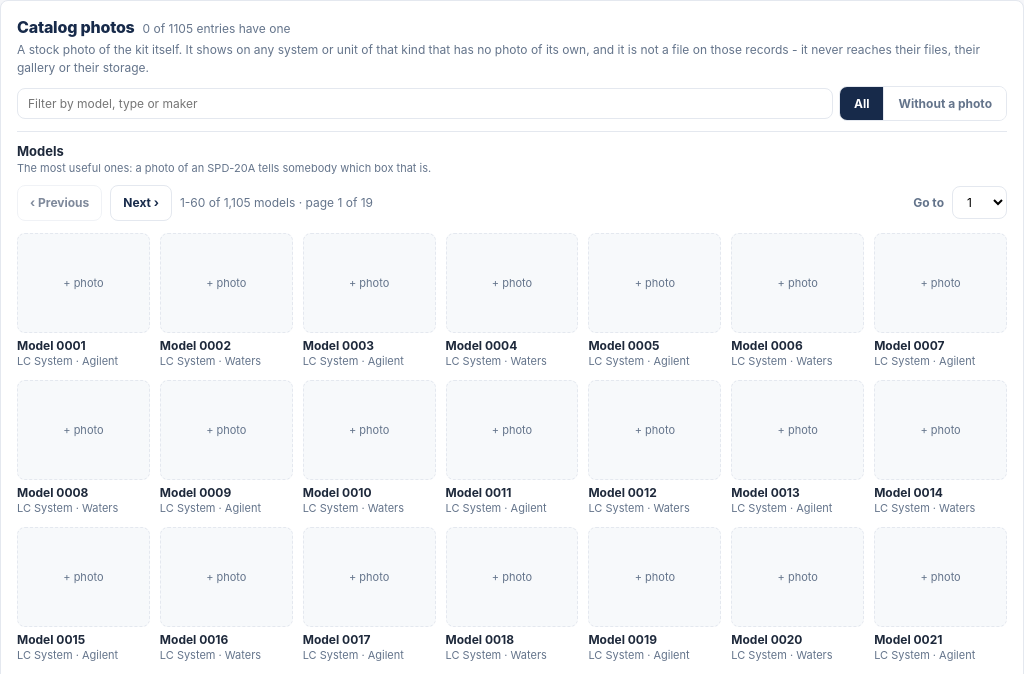
the photos card, which was the taller of the two › goes back to the top when the filter changes
Click the button "Next ›". click: (141, 203)
box: [110,185,172,221]
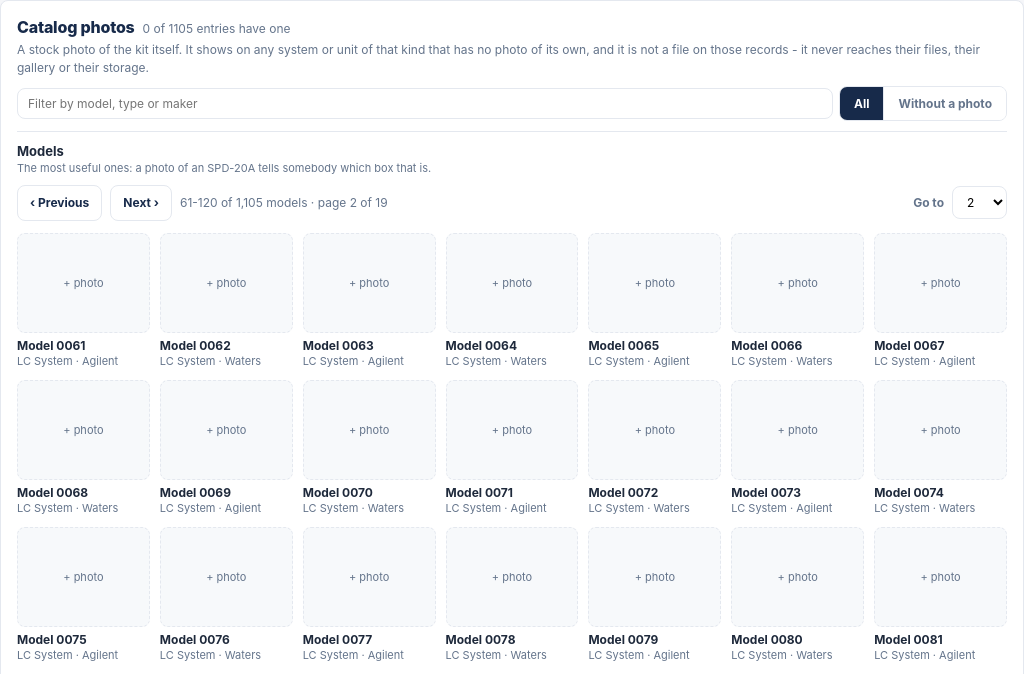
Click the button "Next ›". click: (141, 203)
box: [110,185,172,221]
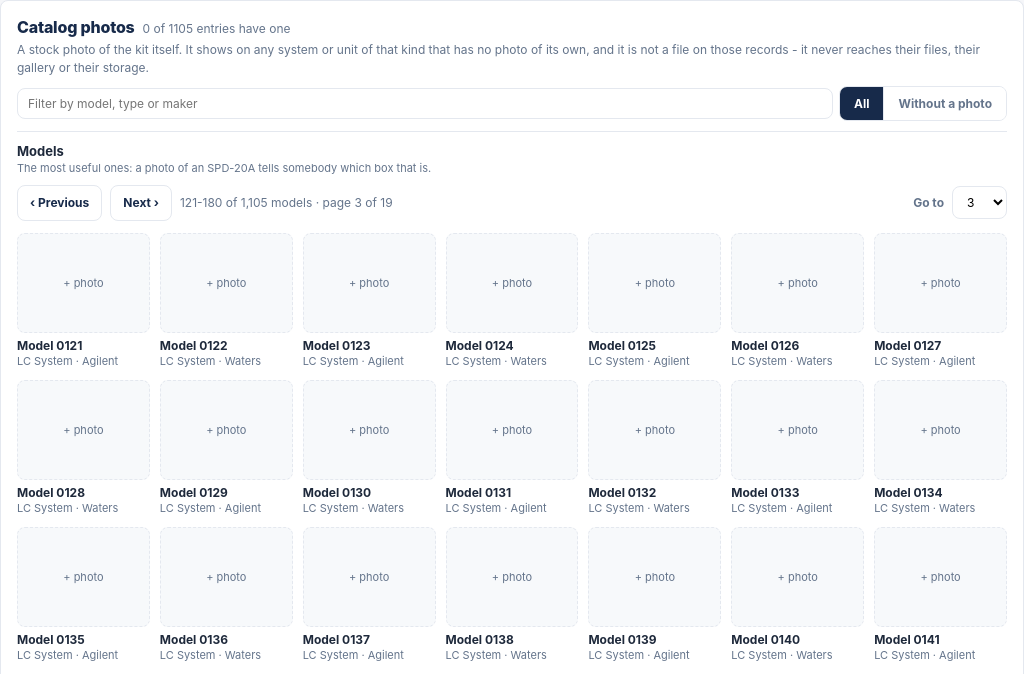
Click the button "Next ›". click: (141, 203)
box: [110,185,172,221]
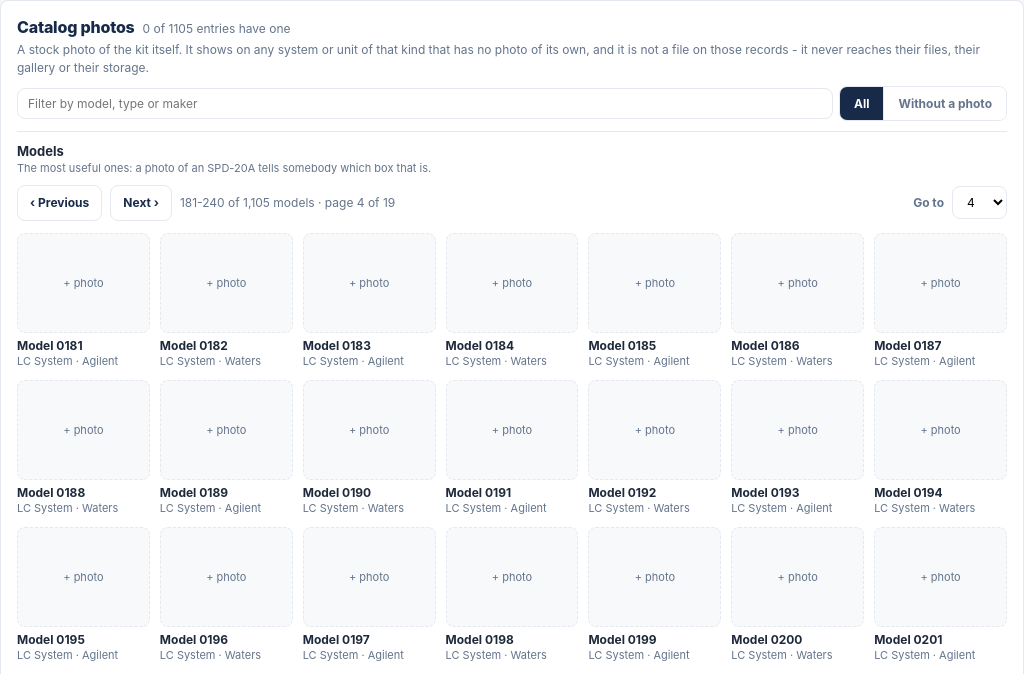
Click the button "Next ›". click: (141, 203)
box: [110,185,172,221]
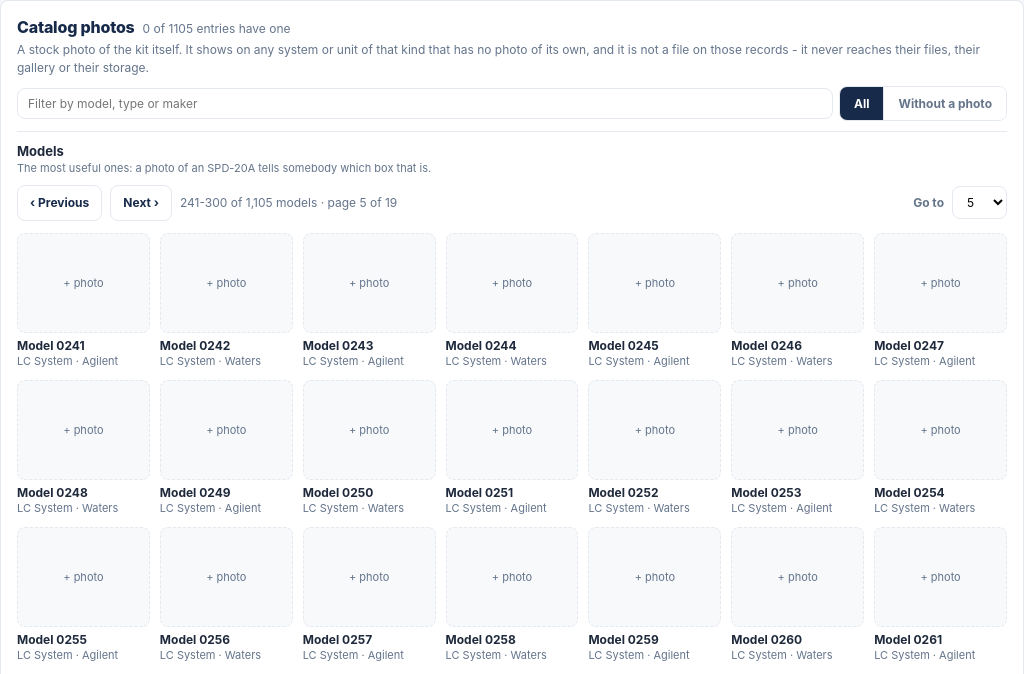
Check: the text "241-300 of 1,105 models · page 5 of 19" is shown, box [180,194,397,212]
Type "Waters" into the field with placeholder "Filter by model, type or maker". click: (425, 104)
box: [17,88,833,119]
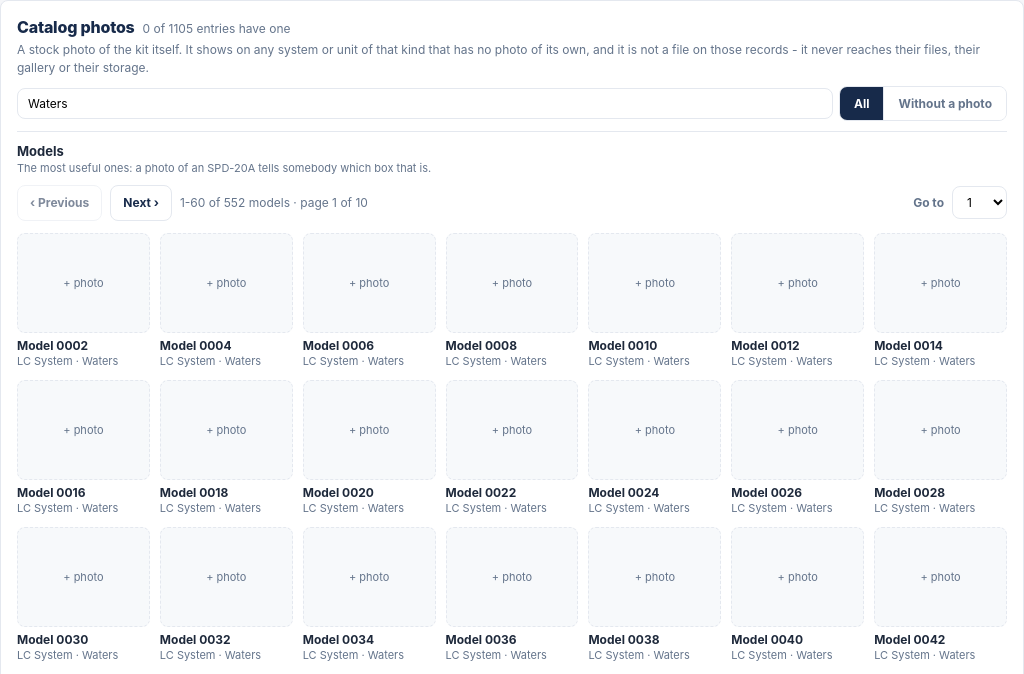
Check: the text "1-60 of 552 models · page 1 of 10" is shown, box [180,194,368,212]
